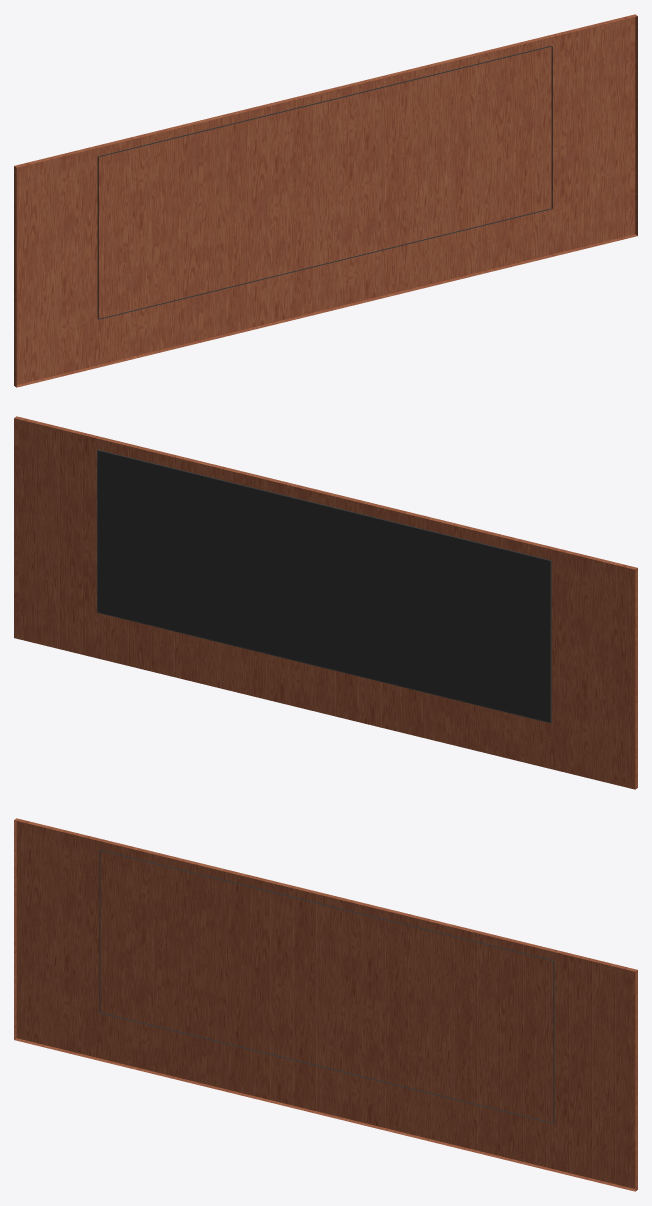
The model's file is Lector_Hall_white_board.fbx.
3 renders of one model, top to bottom at view 1: azimuth 30°, elevation 25°; view 2: azimuth 150°, elevation 25°; view 3: azimuth 330°, elevation 25°, orthographic.
Visible parts, largest first — view 1: screen_screen_0; view 2: screen_screen_0; view 3: screen_screen_0.
Part boxes in pixels (x1,y1,x2,y2): screen_screen_0: [14, 14, 637, 387]; screen_screen_0: [14, 416, 637, 789]; screen_screen_0: [14, 818, 637, 1191].
Bounding box in the file's own units: 1281 × 433 × 11.84.
1 material, 1 textured.
